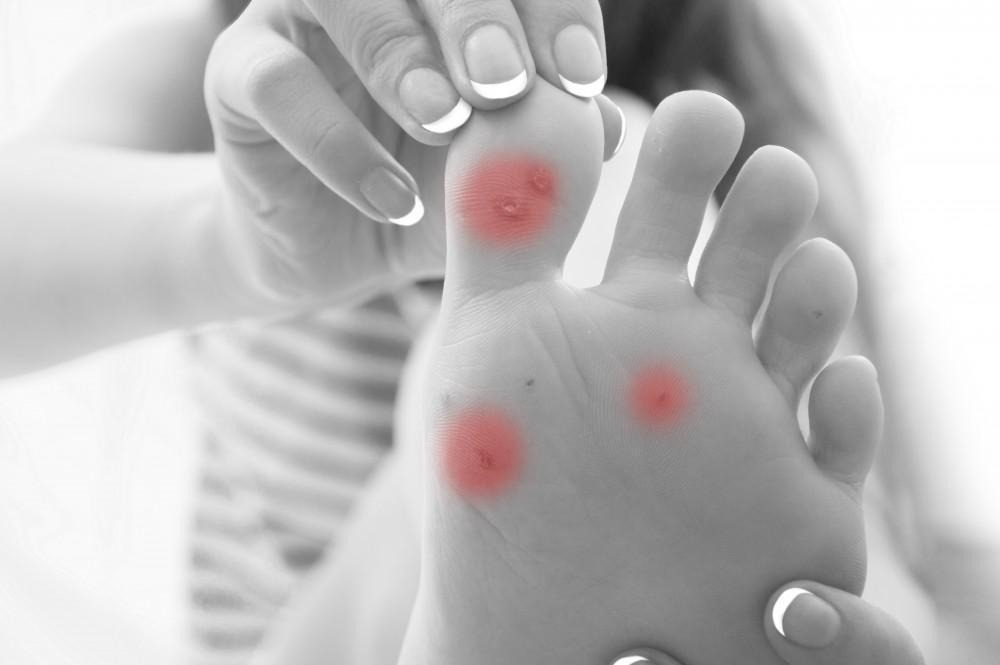Warts: (475, 162, 559, 239), (630, 363, 687, 429), (458, 428, 504, 494)
